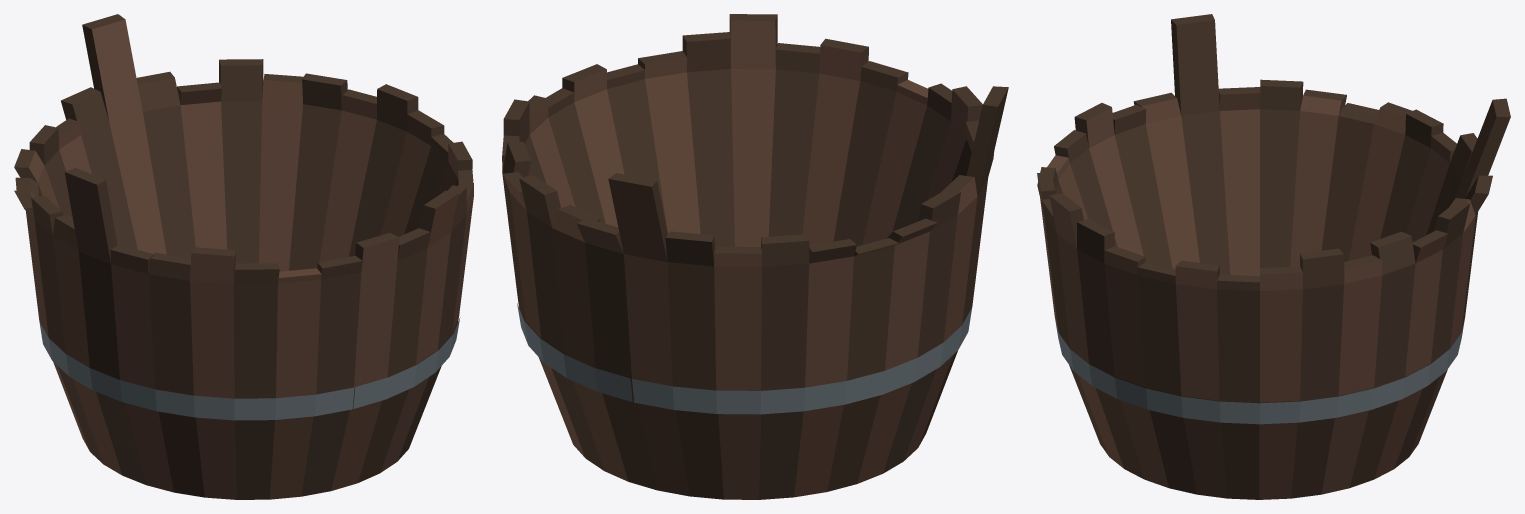
File: Broken_Barrel_01.gltf
3 renders of one model, left to right at view 1: azimuth 30°, elevation 25°; view 2: azimuth 150°, elevation 25°; view 3: azimuth 270°, elevation 25°, orthographic. The views are drawn at different scales.
Visible parts, largest first — view 1: broken barrel; view 2: broken barrel; view 3: broken barrel.
Part boxes in pixels (<box>): broken barrel: <box>14,14,473,499</box>; broken barrel: <box>502,14,1008,499</box>; broken barrel: <box>1037,14,1510,499</box>.
Bounding box in the file's own units: 0.3923 × 0.3037 × 0.4091.
Materials: 1 (1 with a texture image).
